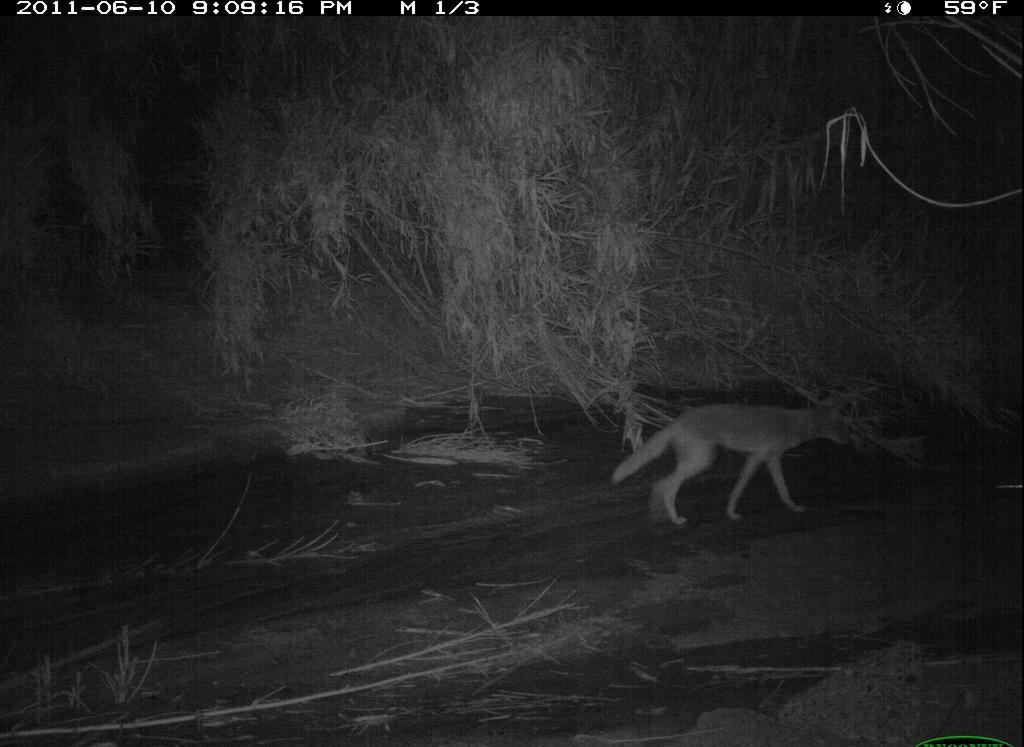coyote: (611, 388, 857, 532)
